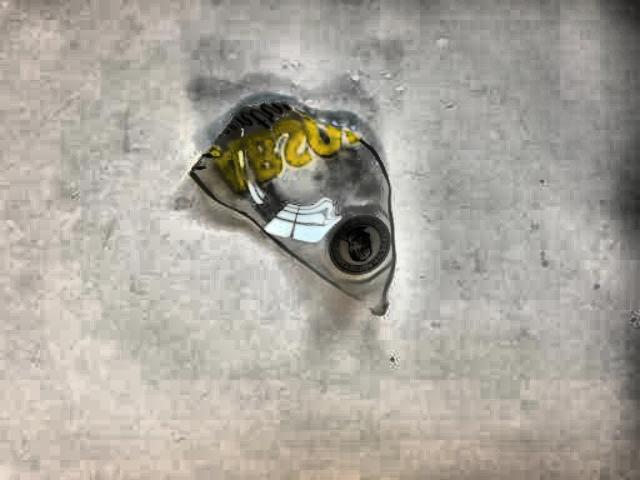Almennt: (181, 83, 451, 362)
